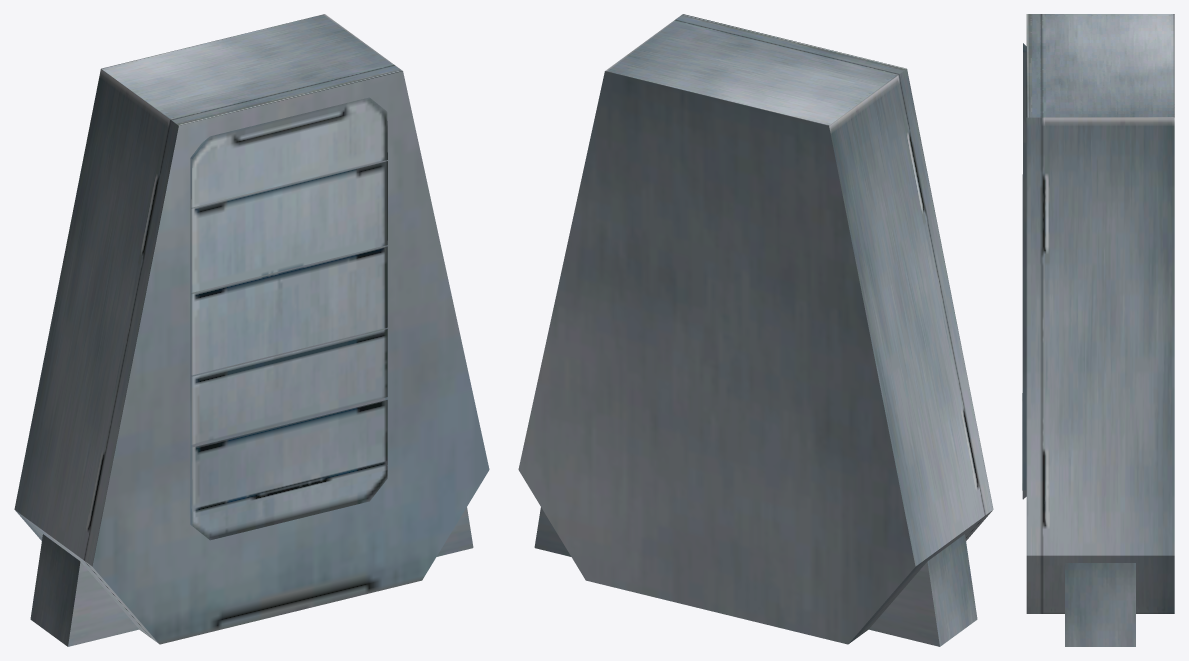
Rendered from frn_all_tech_armoire_s01_l1.fbx.
3 views of the same model, side by side, from view 1: azimuth 30°, elevation 25°; view 2: azimuth 150°, elevation 25°; view 3: azimuth 270°, elevation 25° (orthographic). The views are drawn at different scales.
Visible parts, largest first — view 1: mesh_node; view 2: mesh_node; view 3: mesh_node.
Boxes of the visible parts, bbox=[...] form: mesh_node: bbox=[14, 14, 489, 646]; mesh_node: bbox=[518, 14, 993, 646]; mesh_node: bbox=[1022, 14, 1174, 646].
Bounding box in the file's own units: 1.49 × 1.81 × 0.5109.
